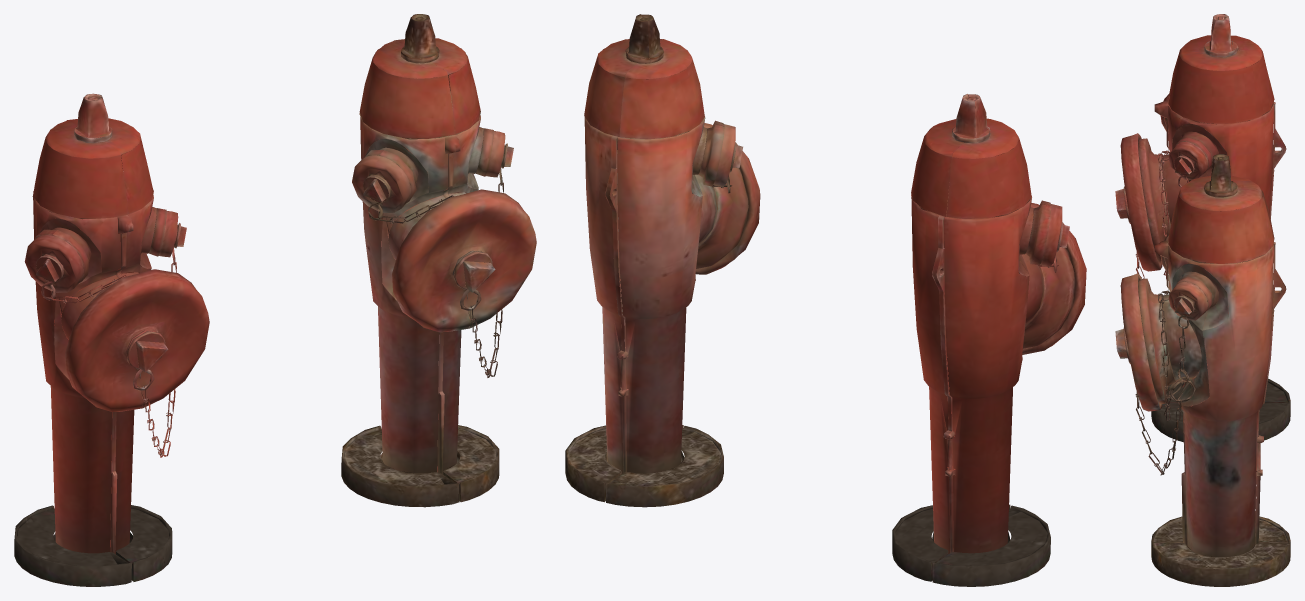
Rendered from ph_fire_hydrant.glb.
3 views of the same model, side by side, from view 1: azimuth 30°, elevation 25°; view 2: azimuth 150°, elevation 25°; view 3: azimuth 270°, elevation 25° (orthographic). The views are drawn at different scales.
Visible parts, largest first — view 1: fire_hydrant; view 2: fire_hydrant; view 3: fire_hydrant.
Part boxes in pixels (left/top/right/bottom): fire_hydrant: left=14, top=14, right=536, bottom=586; fire_hydrant: left=565, top=14, right=1086, bottom=586; fire_hydrant: left=1115, top=14, right=1290, bottom=586.
Bounding box in the file's own units: 0.8738 × 0.8004 × 0.3173.
2 materials, 2 textured.
